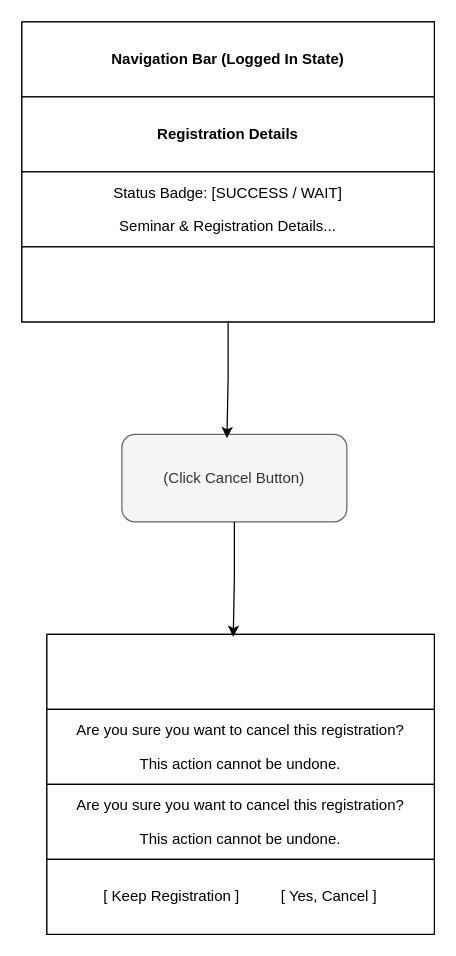
This 456x956 diagram has some shape labels left out. The centre of each missing label's shape, as x and y in pixels:
Action Area [ Cancel Registration ]: (227,284)
Cancel Registration ?: (240,671)
